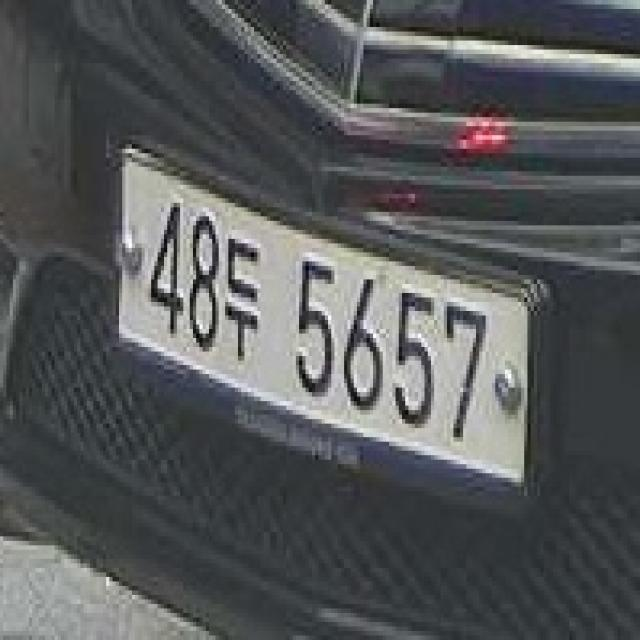4: (146, 191, 187, 353)
5: (290, 250, 338, 406), (394, 283, 436, 436)
6: (342, 268, 386, 424)
7: (441, 297, 489, 450)
8: (188, 206, 221, 360)
du: (224, 230, 263, 378)
license_plate: (99, 108, 552, 531)
